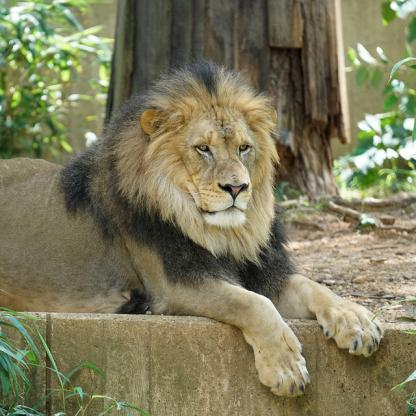cat: (0, 60, 386, 397)
